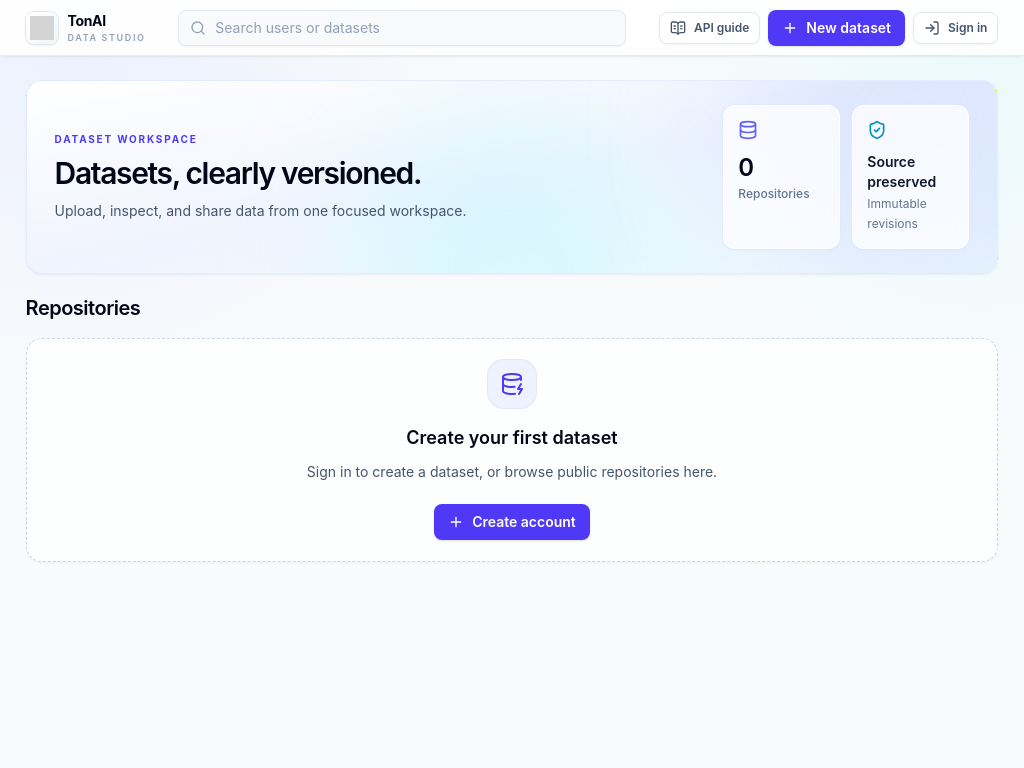
Test case: App › prompts an anonymous user to create an account
Click the button "Create account" at {"x": 512, "y": 522}, box [434,504,590,540]
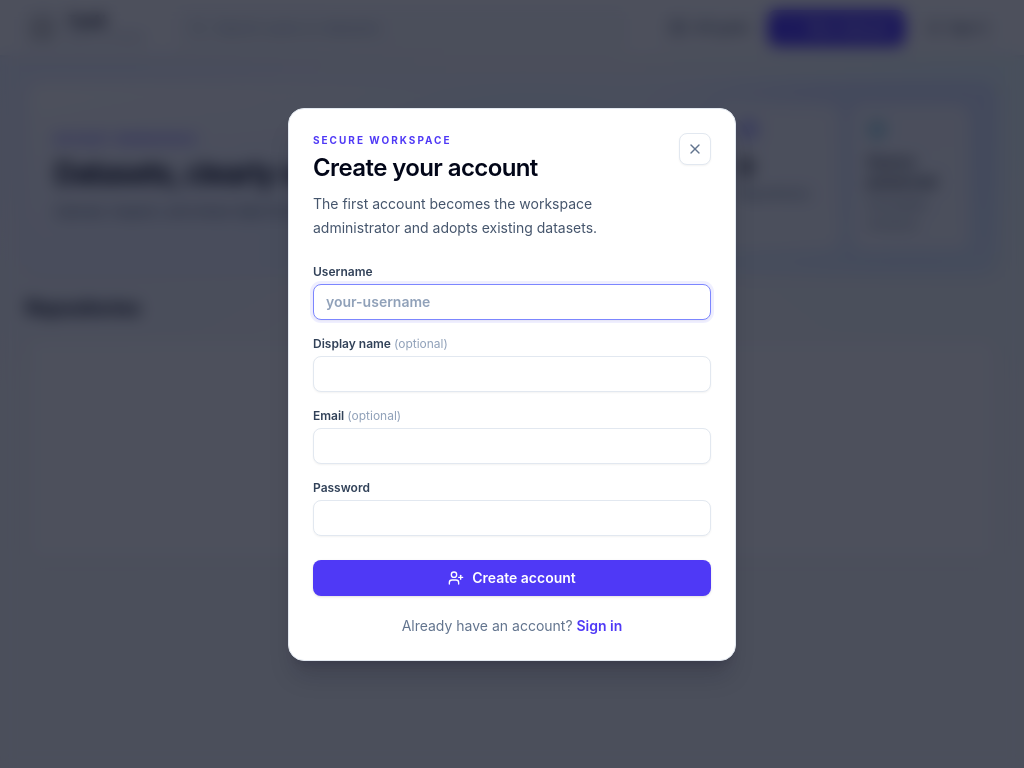
Check: the heading "Create your account" is shown, box [313,152,538,182]
